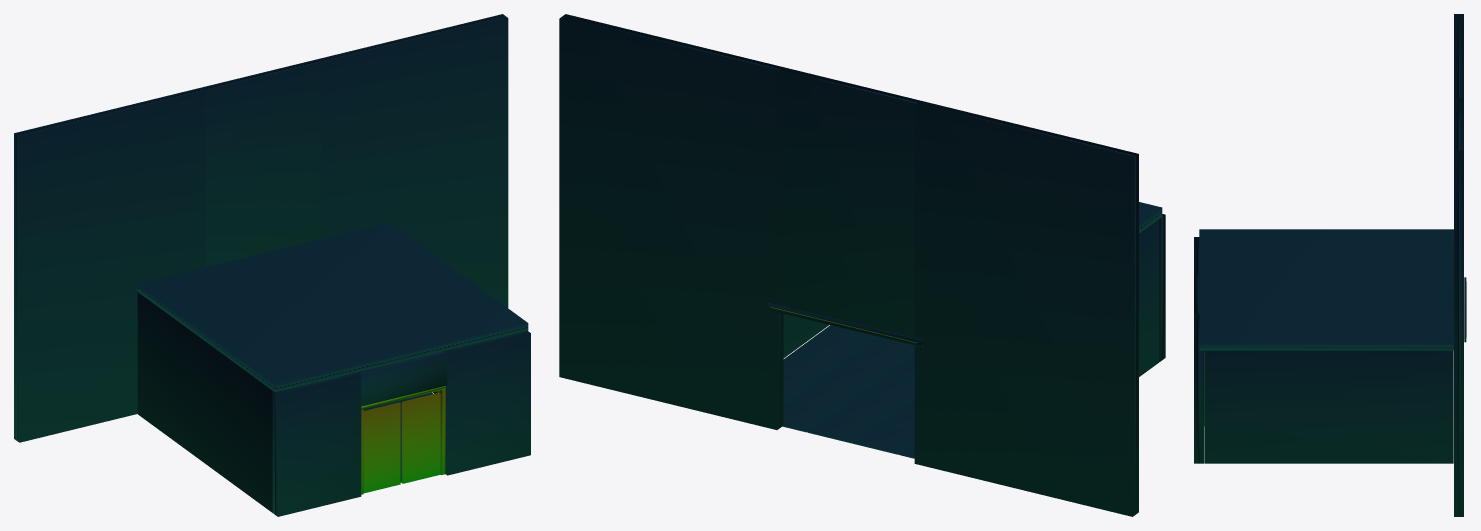
Rendered from sanctum_vestibule.glb.
3 renders of one model, left to right at view 1: azimuth 30°, elevation 25°; view 2: azimuth 150°, elevation 25°; view 3: azimuth 270°, elevation 25°, orthographic. The views are drawn at different scales.
Parts seen in each view (by area): view 1: sanctum_vestibule; view 2: sanctum_vestibule; view 3: sanctum_vestibule.
Part boxes in pixels (<box>): sanctum_vestibule: <box>14,14,530,516</box>; sanctum_vestibule: <box>559,14,1165,516</box>; sanctum_vestibule: <box>1194,14,1466,516</box>.
Size of what is drawn, in the model's own units: 25.08 by 15.05 by 13.12.
